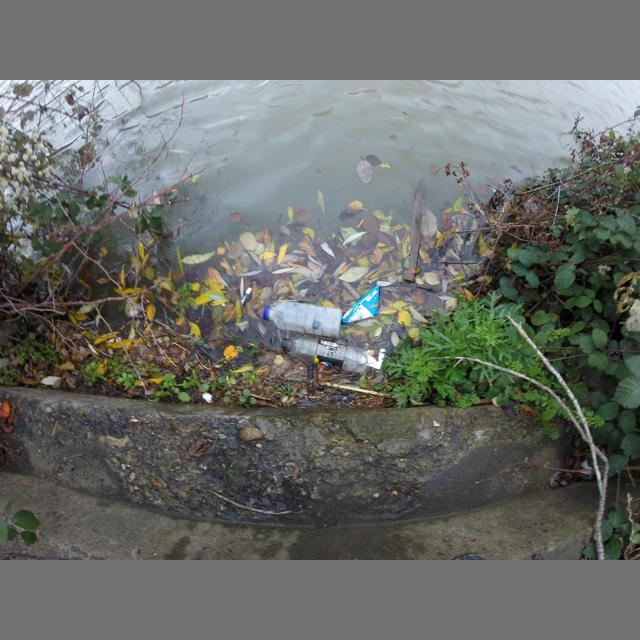litter: (281, 336, 369, 373), (263, 300, 342, 338), (240, 266, 281, 306), (342, 285, 379, 323), (365, 348, 386, 370), (263, 306, 269, 321)
